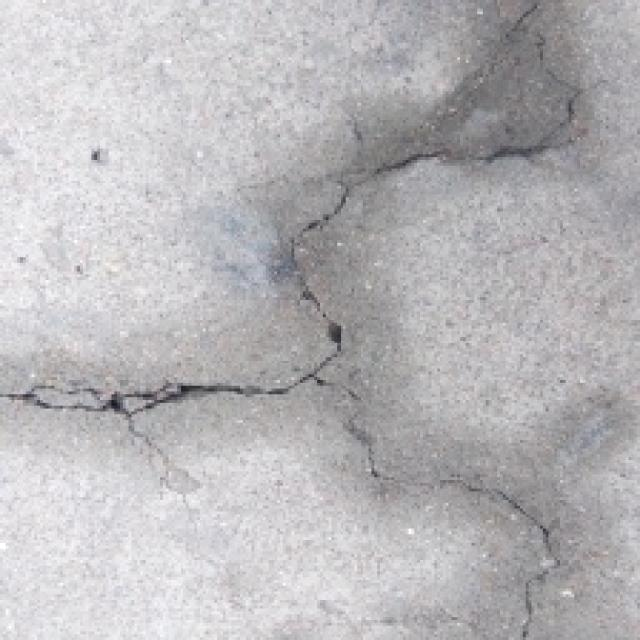crack: (0, 320, 608, 640), (276, 0, 602, 368)
